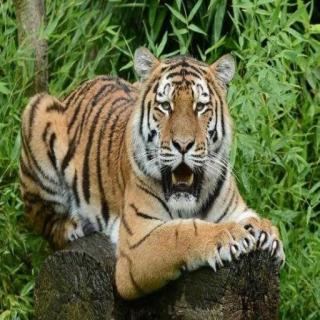Tiger: (3, 46, 284, 298)
